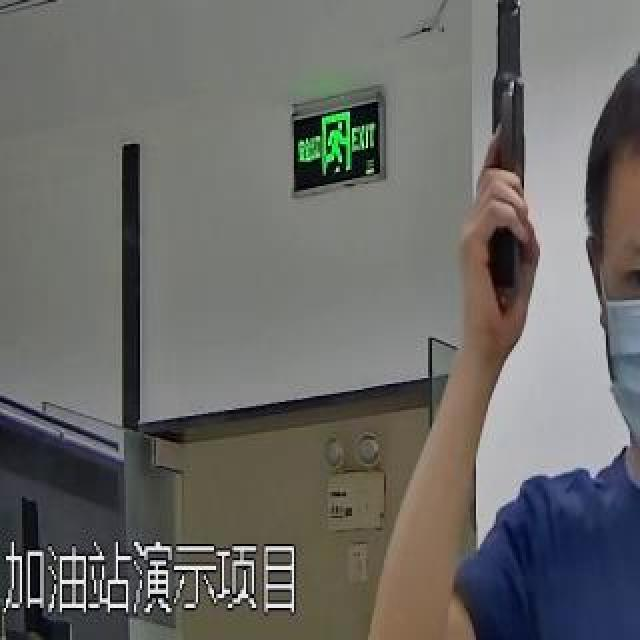Guns: (460, 0, 568, 322)
